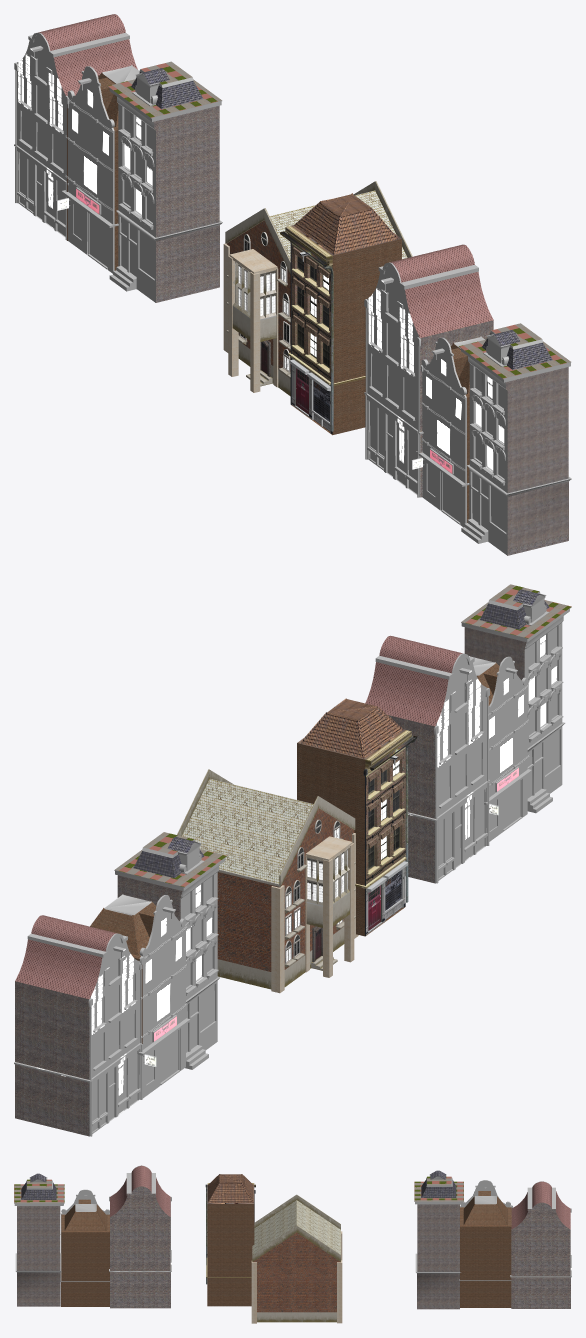
Rendered from Building06.fbx.
3 renders of one model, top to bottom at view 1: azimuth 30°, elevation 25°; view 2: azimuth 150°, elevation 25°; view 3: azimuth 270°, elevation 25°, orthographic. The views are drawn at different scales.
Parts seen in each view (by area): view 1: MeshBaker__12__mesh_mesh; view 2: MeshBaker__12__mesh_mesh; view 3: MeshBaker__12__mesh_mesh.
Boxes of the visible parts, <box> form: MeshBaker__12__mesh_mesh: <box>14,14,571,555</box>; MeshBaker__12__mesh_mesh: <box>14,584,571,1136</box>; MeshBaker__12__mesh_mesh: <box>14,1165,571,1323</box>.
Bounding box in the file's own units: 777 × 1179 × 4799.
